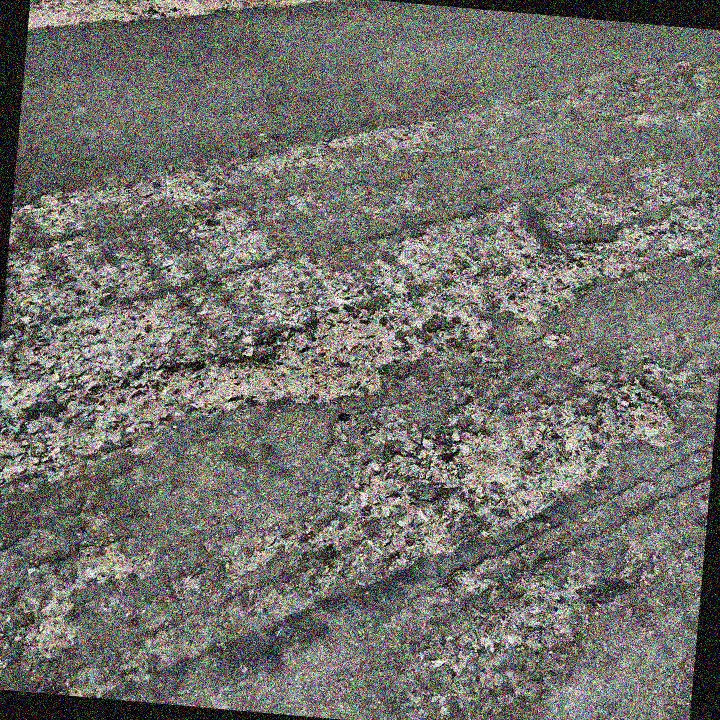pothole: (152, 292, 404, 435), (485, 208, 653, 327), (603, 375, 682, 444)
